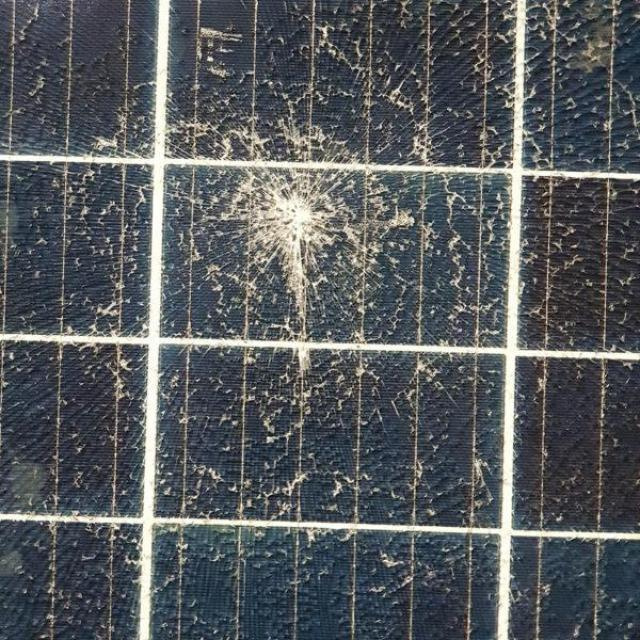cracked: (2, 2, 636, 640)
